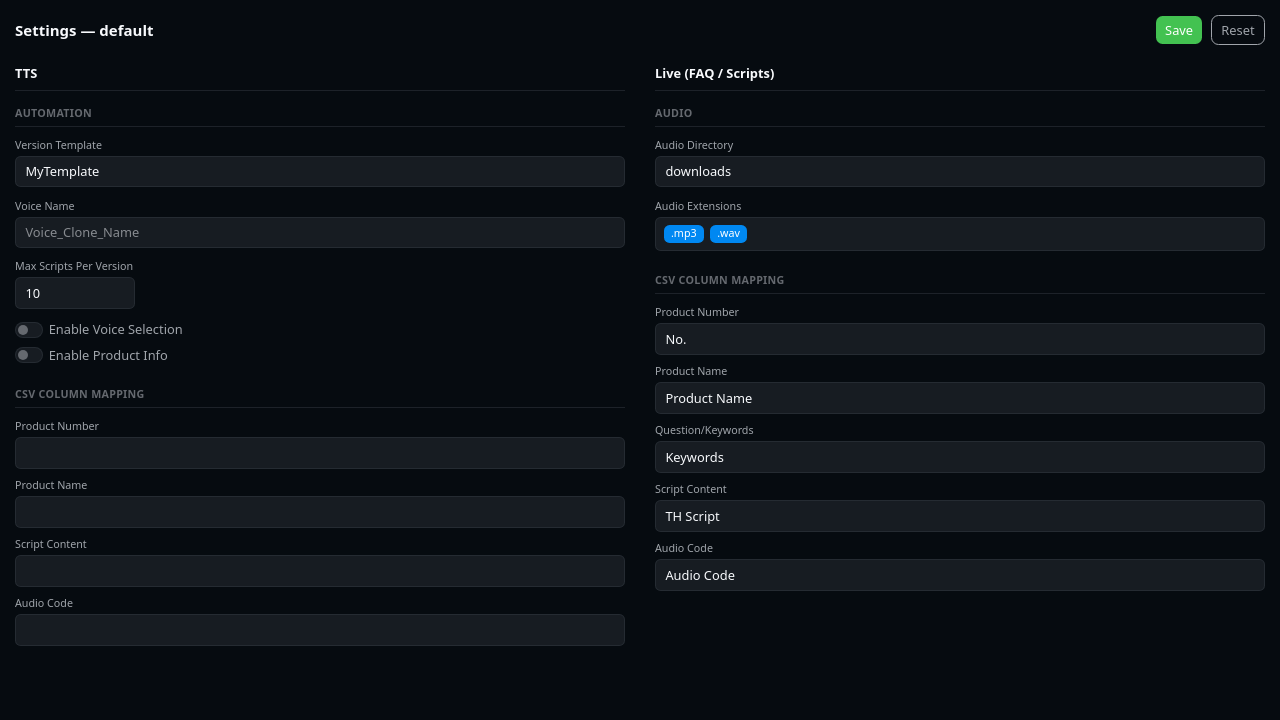
Test: SettingsPanel › resets to original values when reset clicked
Replace the text in the field with test id "input-version-template" with "ChangedTemplate": coordinates (320, 172) x1=15 y1=156 x2=625 y2=187
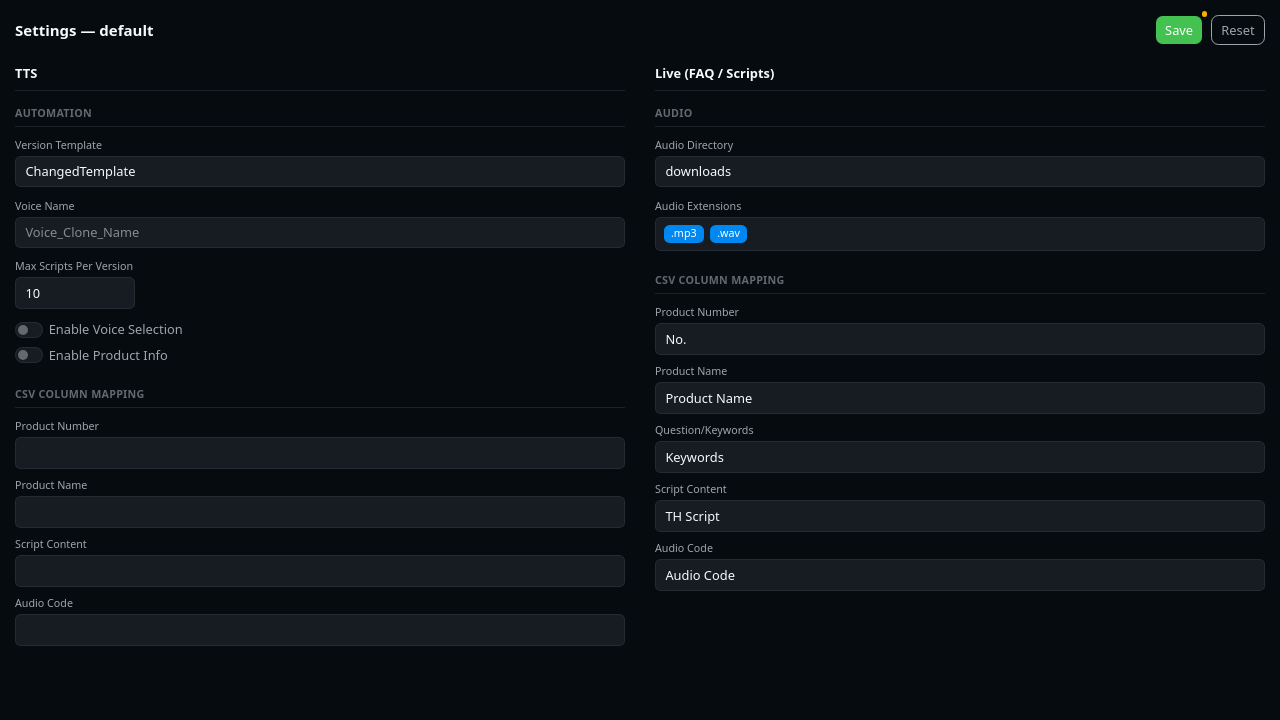
Click the button with test id "reset-button": coordinates (1238, 30) x1=1211 y1=15 x2=1265 y2=45
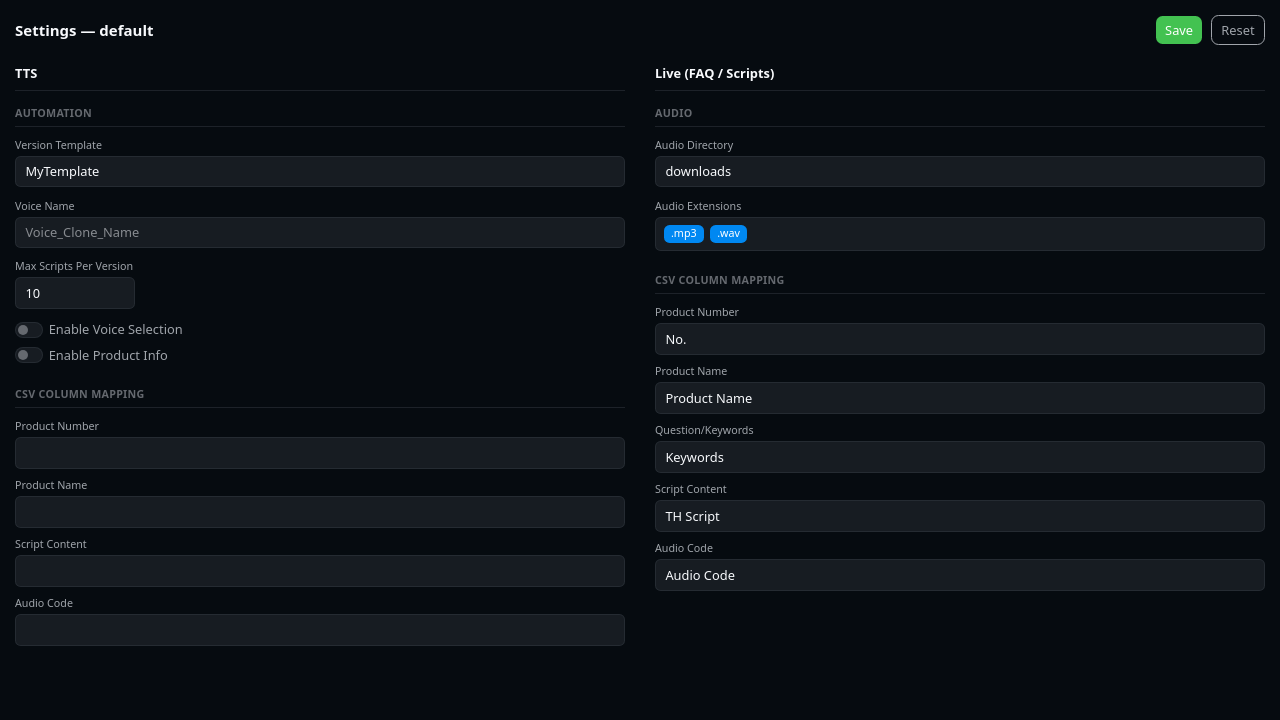
Check: the field with test id "input-version-template" holds "MyTemplate", box x1=15 y1=156 x2=625 y2=187
